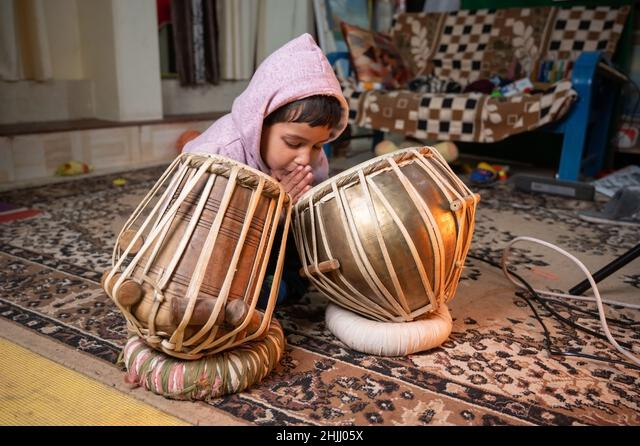tabla: (109, 156, 288, 349), (288, 144, 480, 320)
